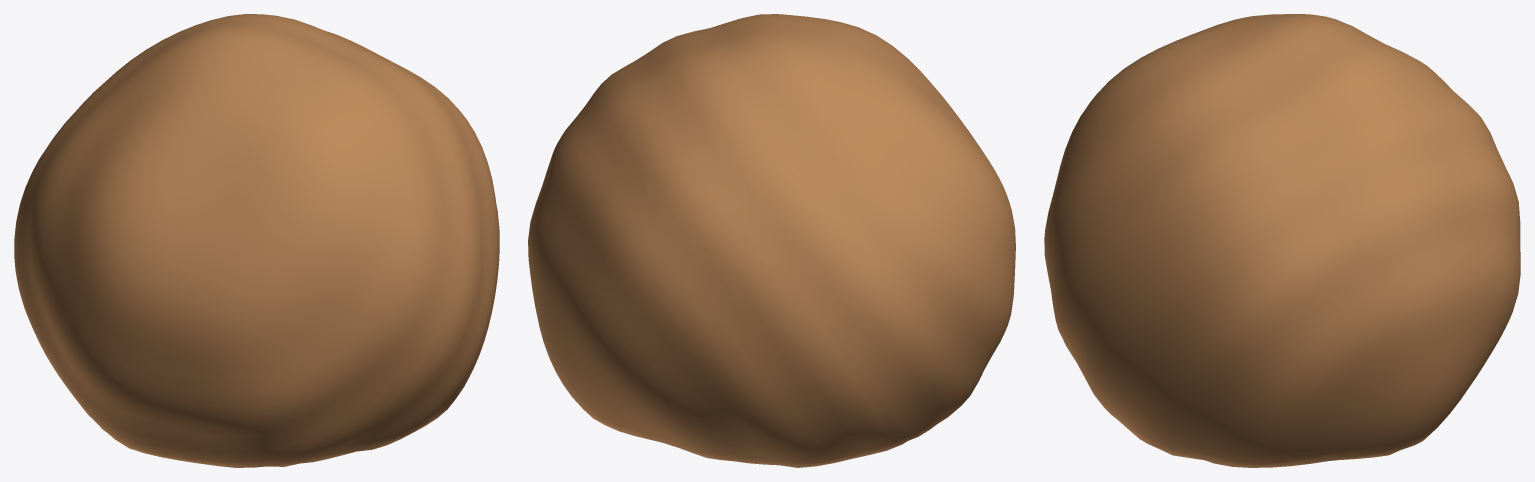
Rendered from dubai-core.glb.
3 views of the same model, side by side, from view 1: azimuth 30°, elevation 25°; view 2: azimuth 150°, elevation 25°; view 3: azimuth 270°, elevation 25° (orthographic).
Visible parts, largest first — view 1: dubai_dough_core; view 2: dubai_dough_core; view 3: dubai_dough_core.
Part boxes in pixels (x1,y1,x2,y2): dubai_dough_core: [14, 14, 499, 467]; dubai_dough_core: [528, 14, 1015, 467]; dubai_dough_core: [1044, 14, 1520, 467].
Size of the model in its own units: 1.75 by 1.46 by 1.7.
